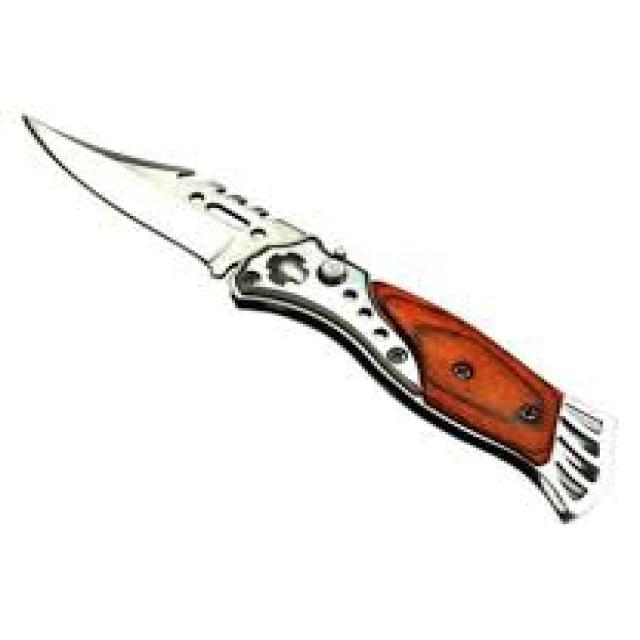knife: (9, 107, 619, 537)
